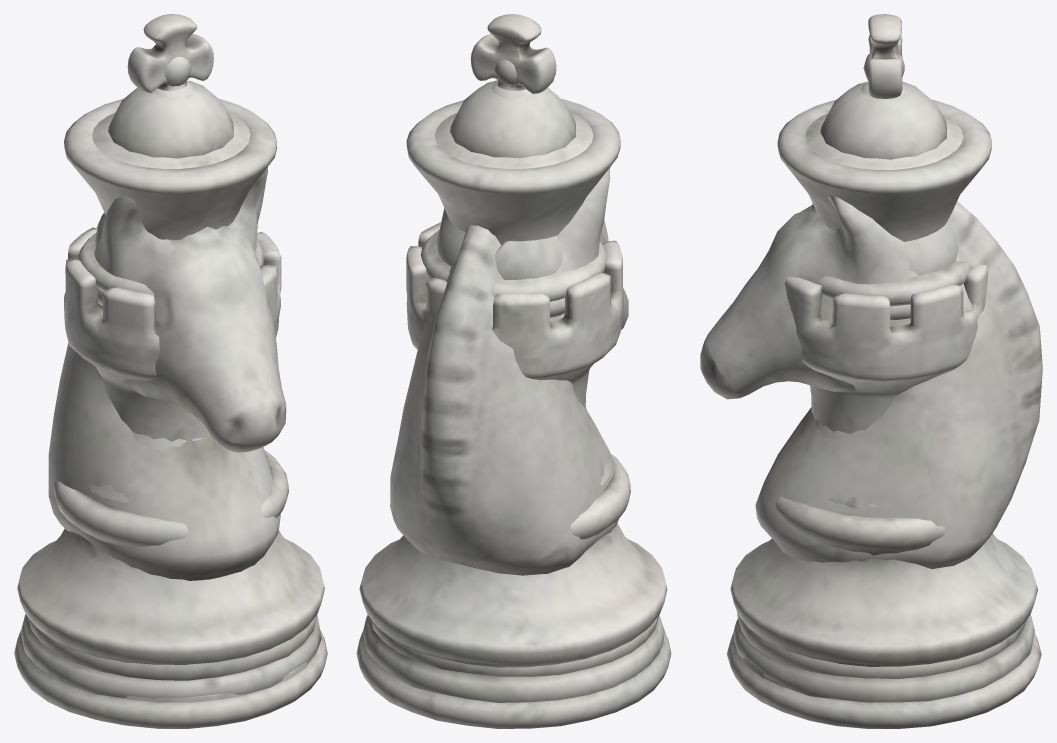
File: pieces.glb
3 views of the same model, side by side, from view 1: azimuth 30°, elevation 25°; view 2: azimuth 150°, elevation 25°; view 3: azimuth 270°, elevation 25° (orthographic).
Visible parts, largest first — view 1: Q, N, K, R; view 2: Q, N, K, R, B; view 3: N, Q, R, K, B.
Boxes of the visible parts, x1,y1,x2,y2 form: Q: (17, 57, 324, 698); N: (29, 167, 316, 728); K: (14, 14, 327, 728); R: (64, 227, 281, 441); Q: (359, 59, 667, 702); N: (371, 167, 658, 676); K: (356, 14, 671, 728); R: (406, 222, 623, 407); B: (437, 81, 562, 279); N: (700, 195, 1042, 728); Q: (730, 52, 1037, 702); R: (784, 264, 988, 433); K: (727, 14, 1041, 728); B: (861, 81, 958, 275).
Size of the model in its own units: 0.0415 by 0.0953 by 0.0454.
2 materials, 2 textured.
